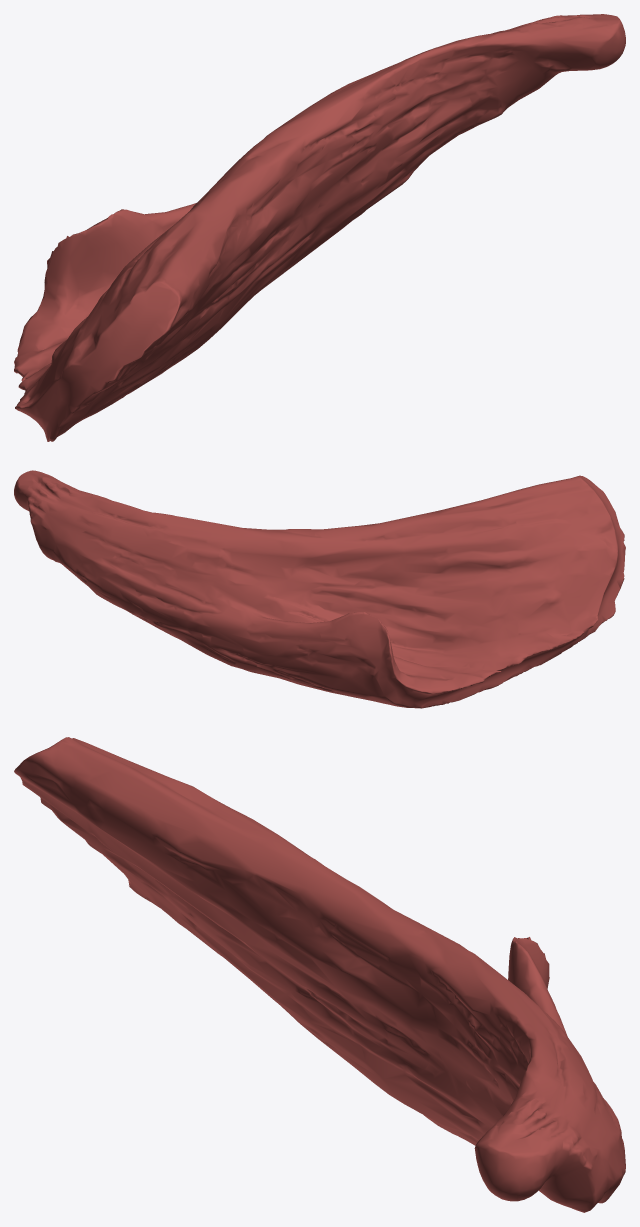
File: FMA22327.glb
3 renders of one model, top to bottom at view 1: azimuth 30°, elevation 25°; view 2: azimuth 150°, elevation 25°; view 3: azimuth 270°, elevation 25°, orthographic. The views are drawn at different scales.
Visible parts, largest first — view 1: FMA22327; view 2: FMA22327; view 3: FMA22327.
Part boxes in pixels (x1=…): FMA22327: x1=14, y1=14, x2=625, y2=441; FMA22327: x1=14, y1=470, x2=625, y2=708; FMA22327: x1=14, y1=737, x2=625, y2=1212.
Size of the model in its own units: 0.0962 by 0.0299 by 0.0562.
